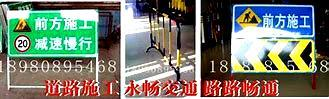sign: (232, 6, 314, 73), (7, 12, 97, 57)
